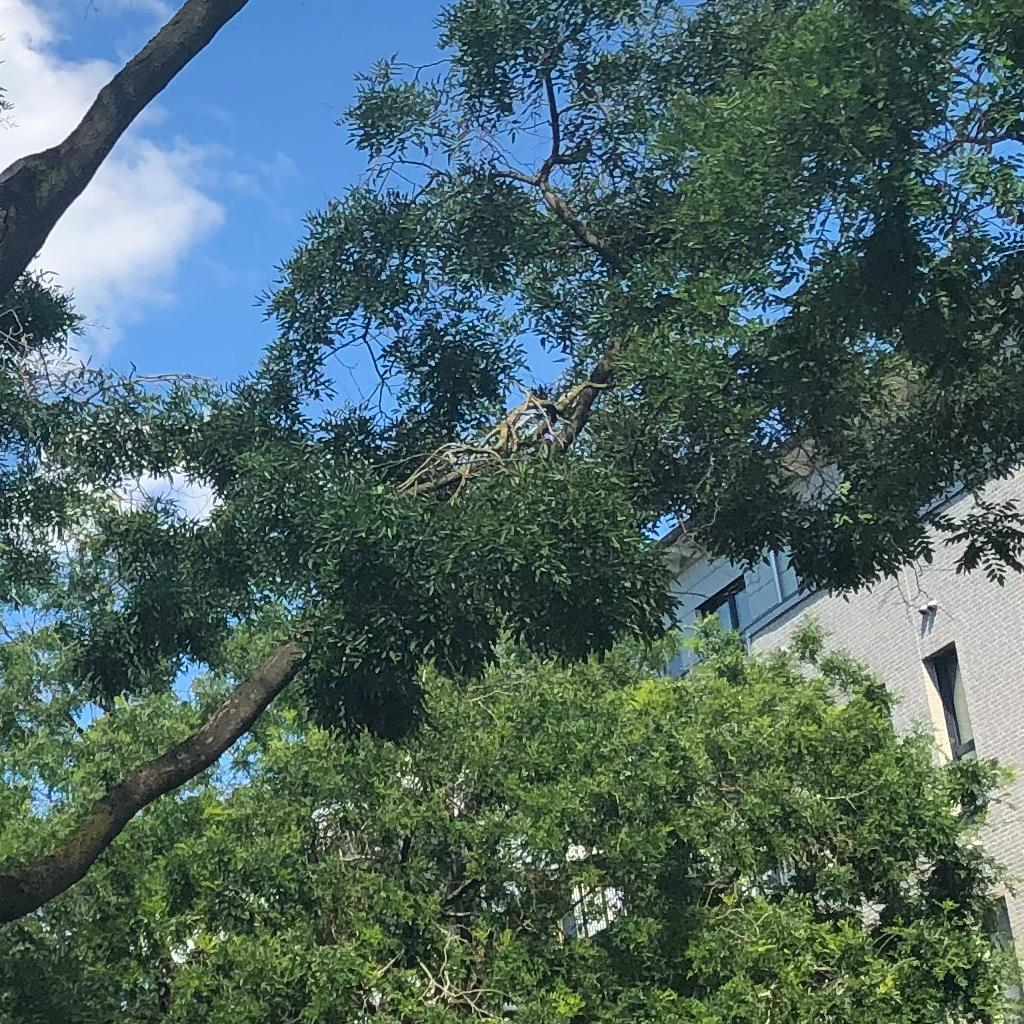tree: (1, 1, 1024, 930), (1, 610, 1023, 1023)
